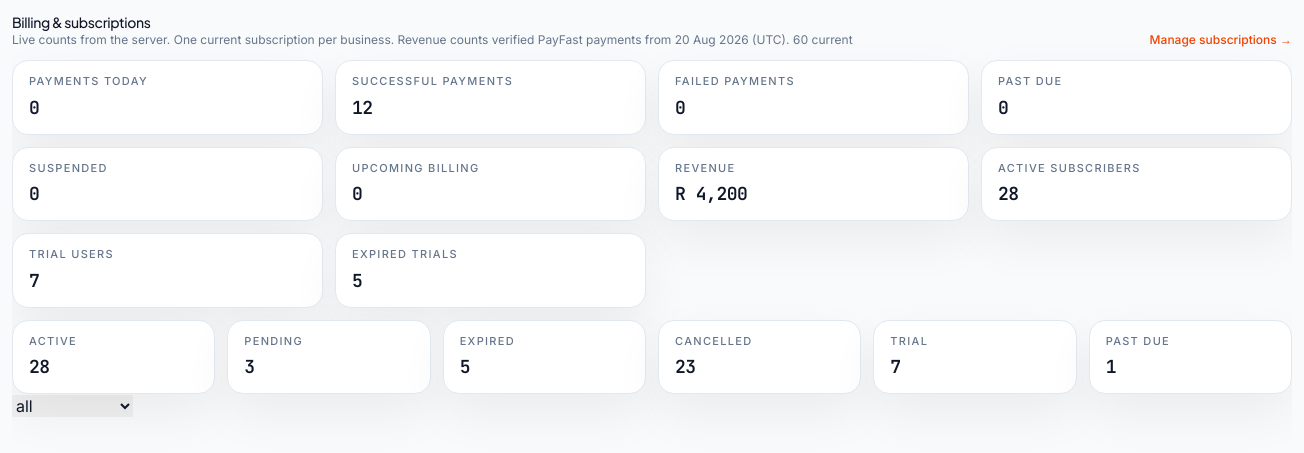
Test: cards drive the shared filter state › clicking Trial Users sets the filter to live_trial and syncs the dropdown
This screenshot has width=1304, height=453.
Step 1. Click the button "Trial Users 7" → [71, 254], box [12,233,323,308]
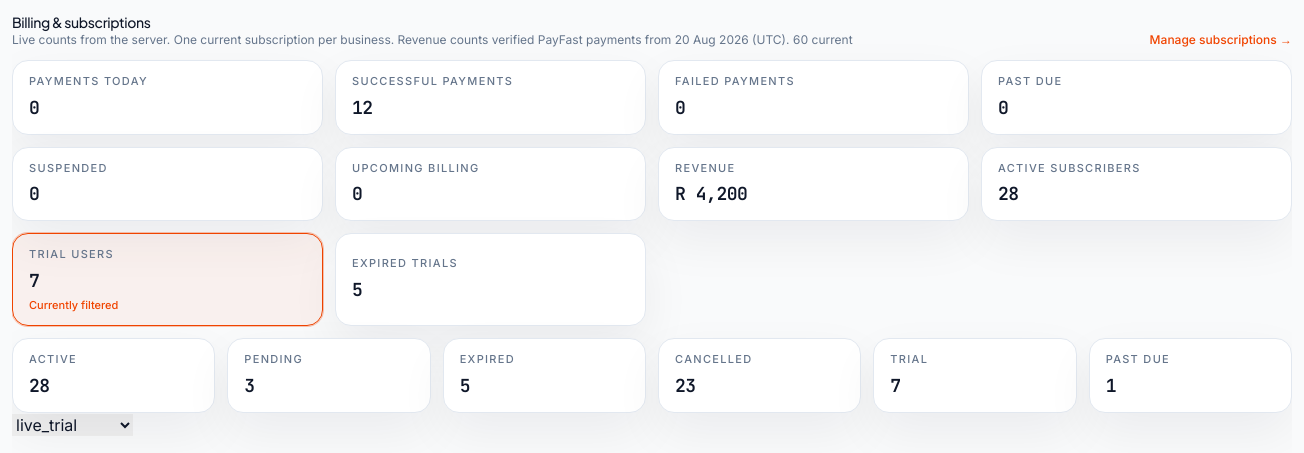
Check: the dropdown with test id "status-dropdown" shows "live_trial", box [12,414,133,436]
